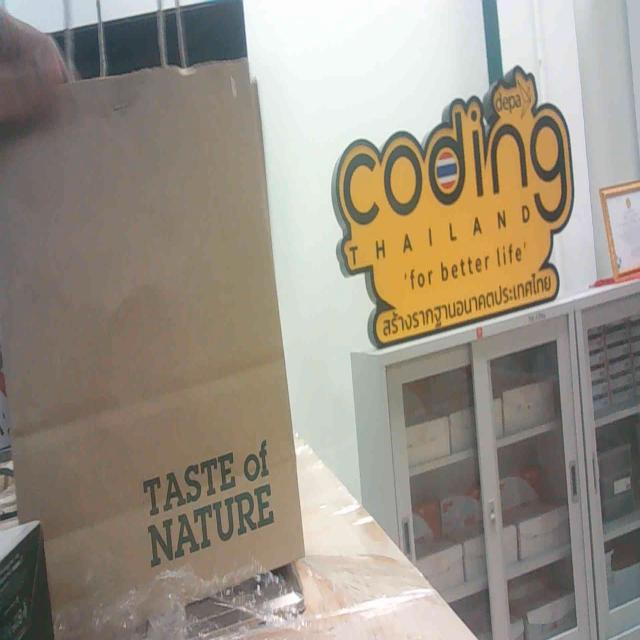bag: (16, 72, 328, 637)
